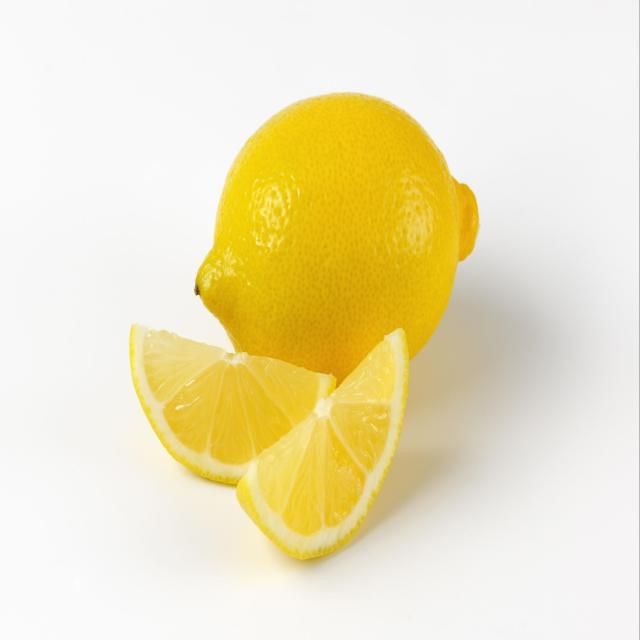lemon: (190, 82, 482, 391), (123, 314, 411, 566)
